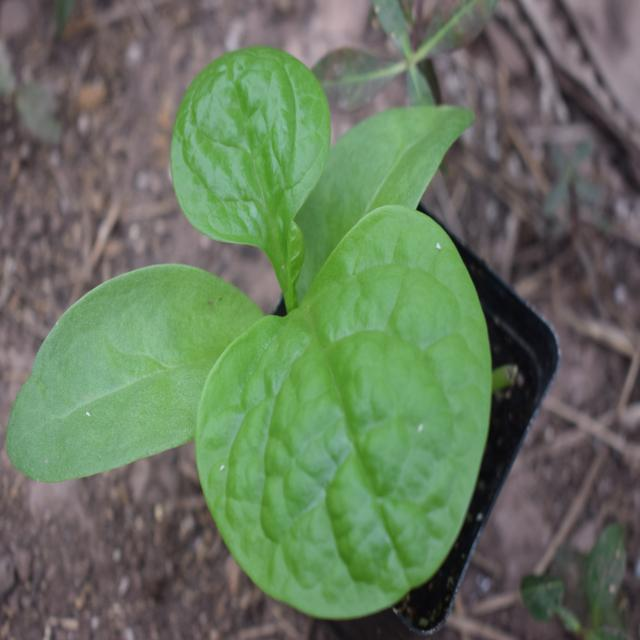Ceylon spinach: (57, 66, 498, 588)
